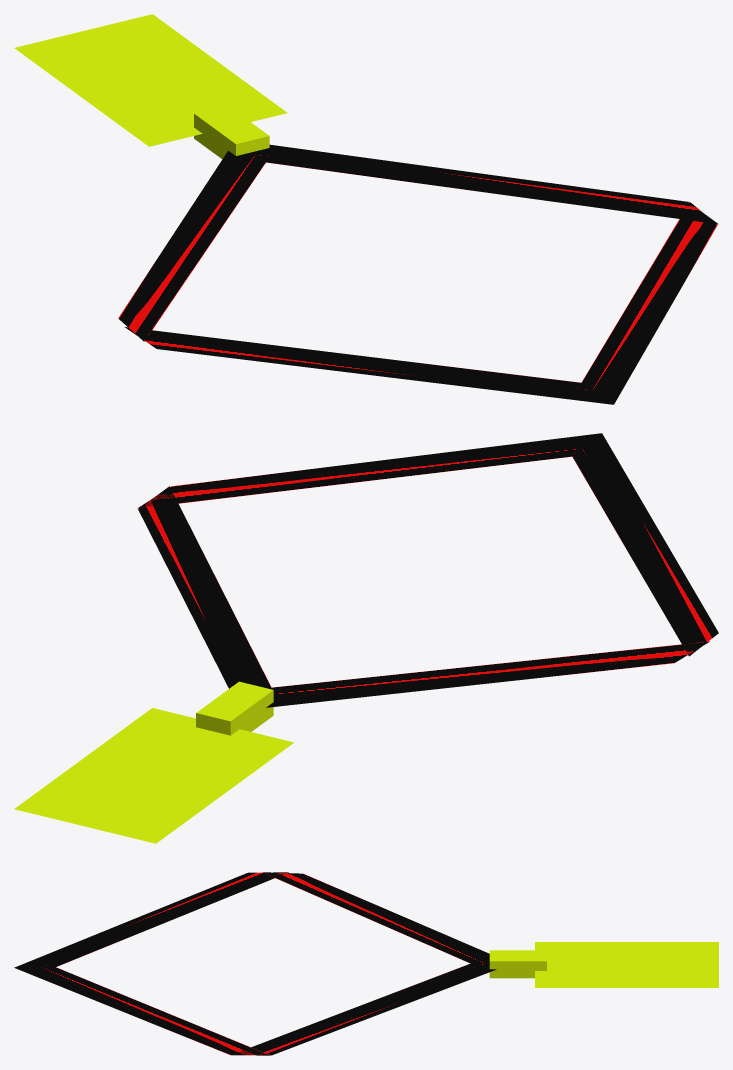
File: Gold Badge Lanyard.fbx
3 views of the same model, one above another, from view 1: azimuth 30°, elevation 25°; view 2: azimuth 150°, elevation 25°; view 3: azimuth 270°, elevation 25° (orthographic). The views are drawn at different scales.
Visible parts, largest first — view 1: Plane001, Plane003, Plane002, Box001; view 2: Plane001, Plane003, Plane002, Box001; view 3: Plane001, Plane003, Plane002, Box001.
Part boxes in pixels (bbox=[...]): Plane001: bbox=[14, 14, 287, 146]; Plane003: bbox=[125, 202, 717, 404]; Plane002: bbox=[118, 144, 718, 341]; Box001: bbox=[194, 105, 269, 159]; Plane001: bbox=[14, 708, 293, 843]; Plane003: bbox=[137, 433, 718, 656]; Plane002: bbox=[138, 486, 709, 707]; Box001: bbox=[196, 681, 273, 735]; Plane001: bbox=[535, 942, 718, 987]; Plane003: bbox=[14, 872, 288, 1055]; Plane002: bbox=[231, 872, 496, 1055]; Box001: bbox=[489, 950, 546, 978].
Bounding box in the file's own units: 11.99 × 0.5205 × 19.44.
